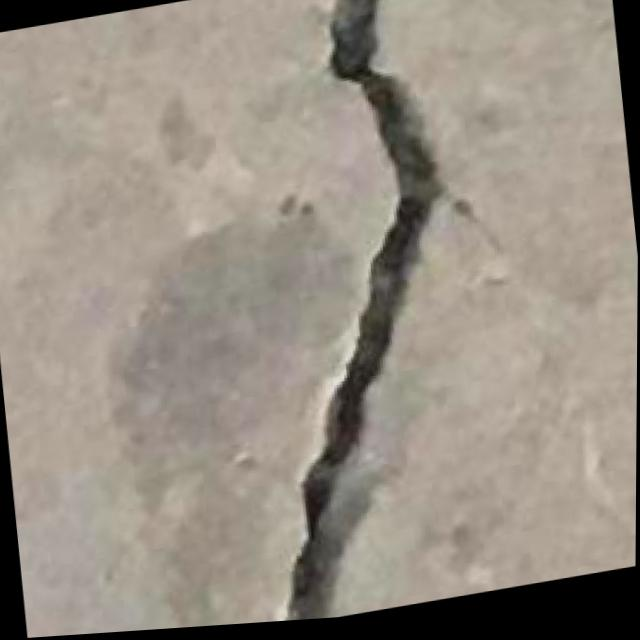Crack: (208, 0, 497, 629)
